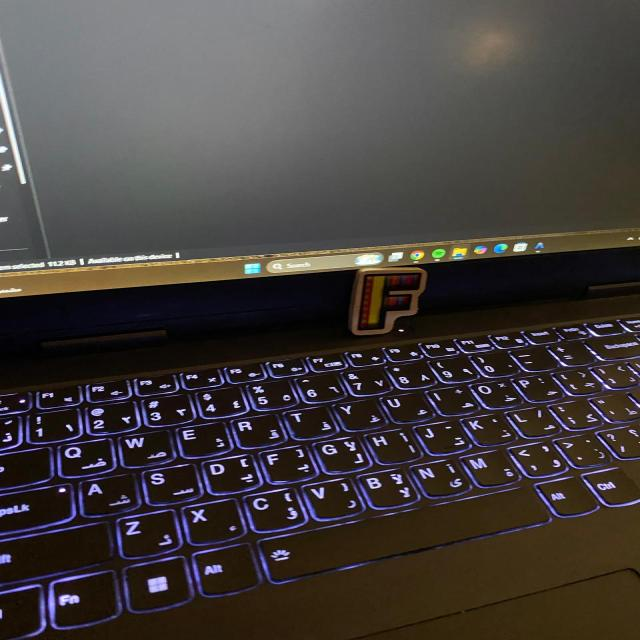F: (349, 267, 425, 335)
